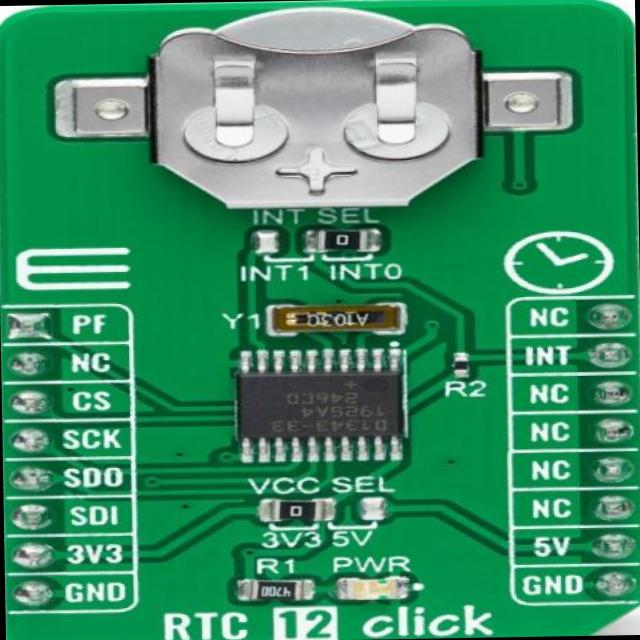IC: (236, 354, 400, 442)
LED: (344, 574, 418, 598)
resistor: (314, 228, 382, 256), (253, 580, 308, 606), (270, 502, 326, 522), (443, 352, 474, 387)
